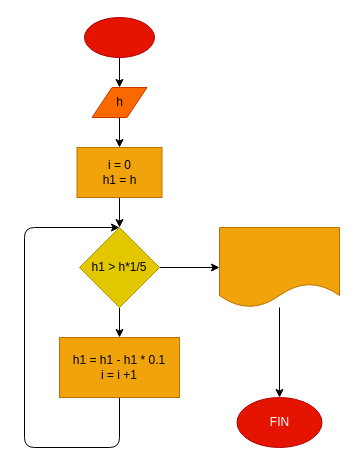
This 357x473 diagram has some shape labels left out. The shapes that lost their labels are listed below. From the top down, each one's box as (x1, y1, x2, y2) in pixels, then its label:
(84, 16, 154, 58): INICIO
(218, 226, 340, 308): h,h1,i
